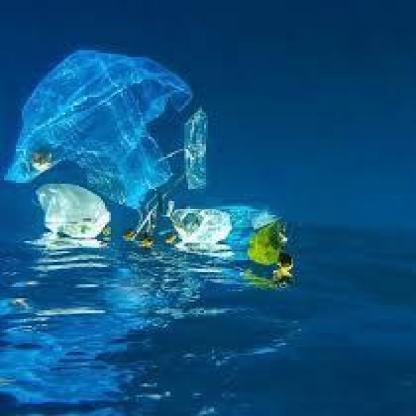pbag: (2, 44, 188, 212), (28, 180, 117, 241), (160, 192, 234, 250)
